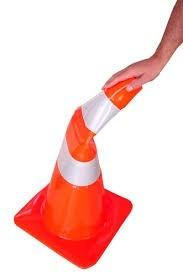traffic_cone: (13, 75, 143, 269)
